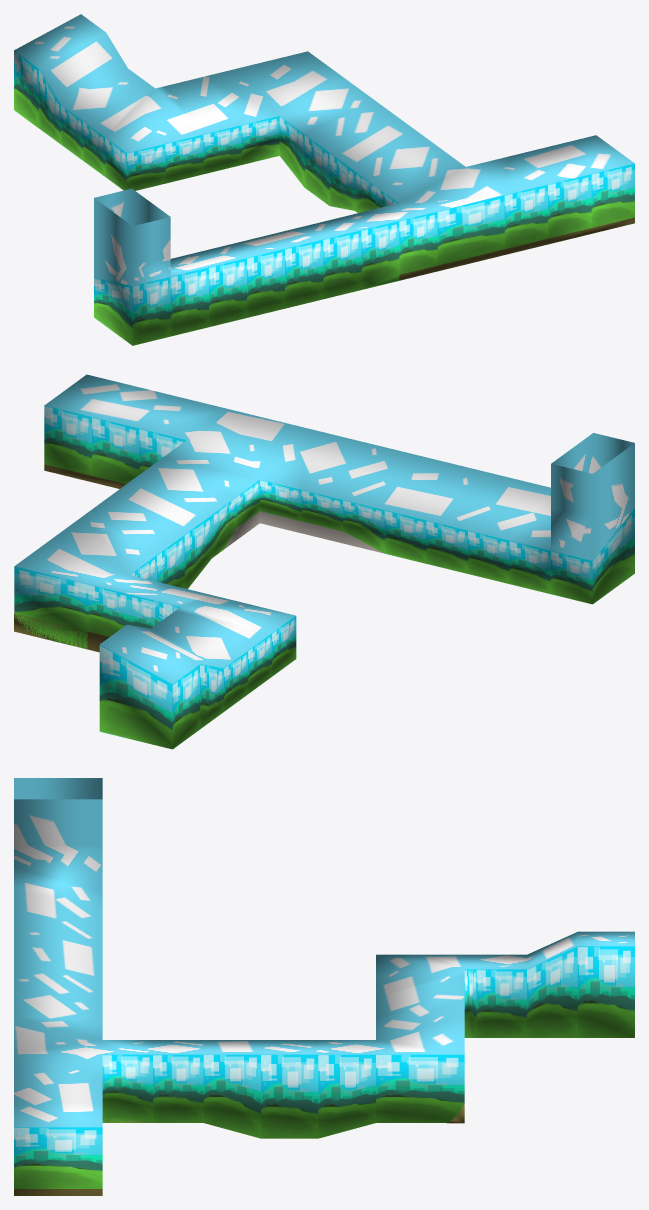
Rendered from test level.fbx.
3 views of the same model, one above another, from view 1: azimuth 30°, elevation 25°; view 2: azimuth 150°, elevation 25°; view 3: azimuth 270°, elevation 25° (orthographic). The views are drawn at different scales.
Parts seen in each view (by area): view 1: Test_level; view 2: Test_level; view 3: Test_level.
Part boxes in pixels (x1,y1,x2,y2): Test_level: [14, 14, 634, 345]; Test_level: [14, 374, 634, 749]; Test_level: [14, 778, 634, 1195].
Size of the model in its own units: 3.47 by 0.8795 by 3.24.
